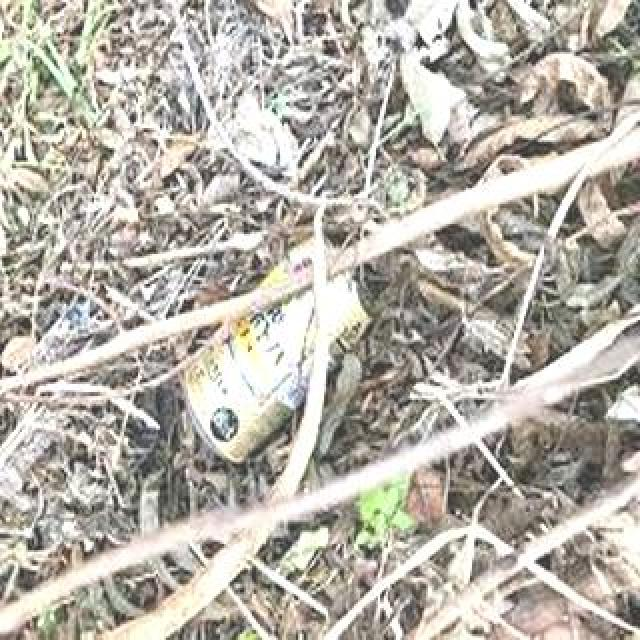Can: (182, 232, 372, 462)
